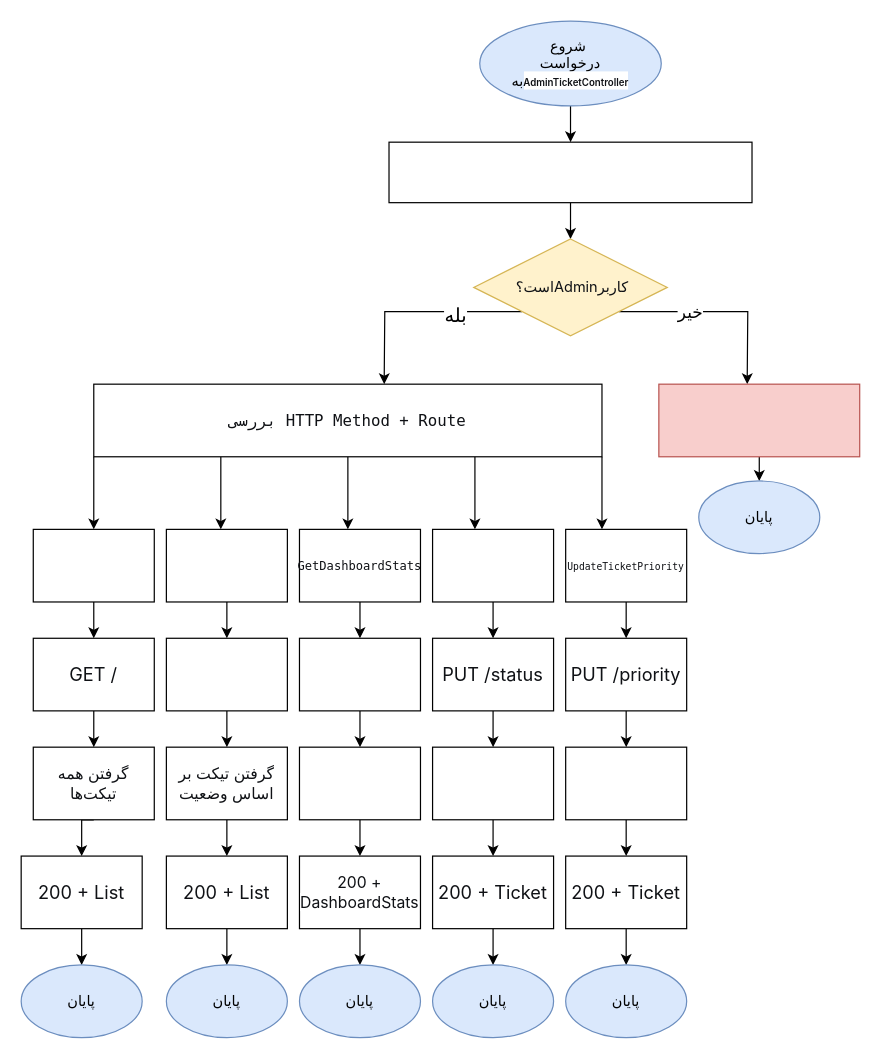
Some shapes in this 881 by 1059 pixel diagram are drawn without their labels. The shapes that lost their labels are listed below. From the top down, each one's centre as x and y in pixels, then its label:
(570,172): برسی Authentication (JWT) - چک کردن Role = "Admin"
(759,420): 401 Unauthorized "دسترسی غیرمجاز"
(93,565): GetAllTickets
(226,565): GetTicketsByStatus
(492,565): UpdateTicketStatus
(226,674): GET /status/{status}
(359,674): GET /dashboard/stats
(359,783): گرفتن آمار داشبورد
(492,783): تغییر وضعیت تیکت
(625,783): تغییر اولویت تیکت
